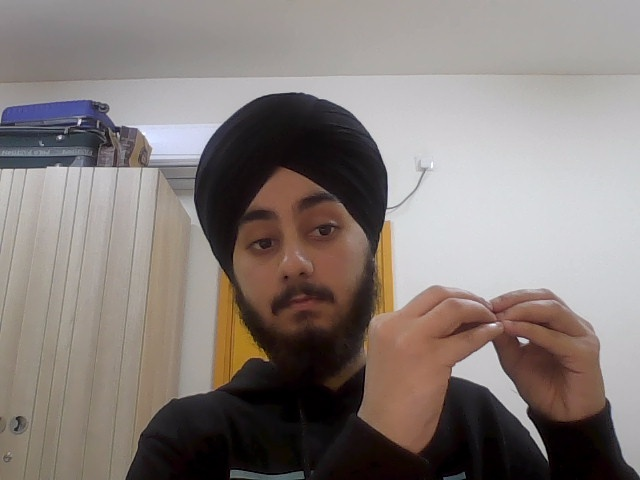More: (355, 282, 609, 444)
